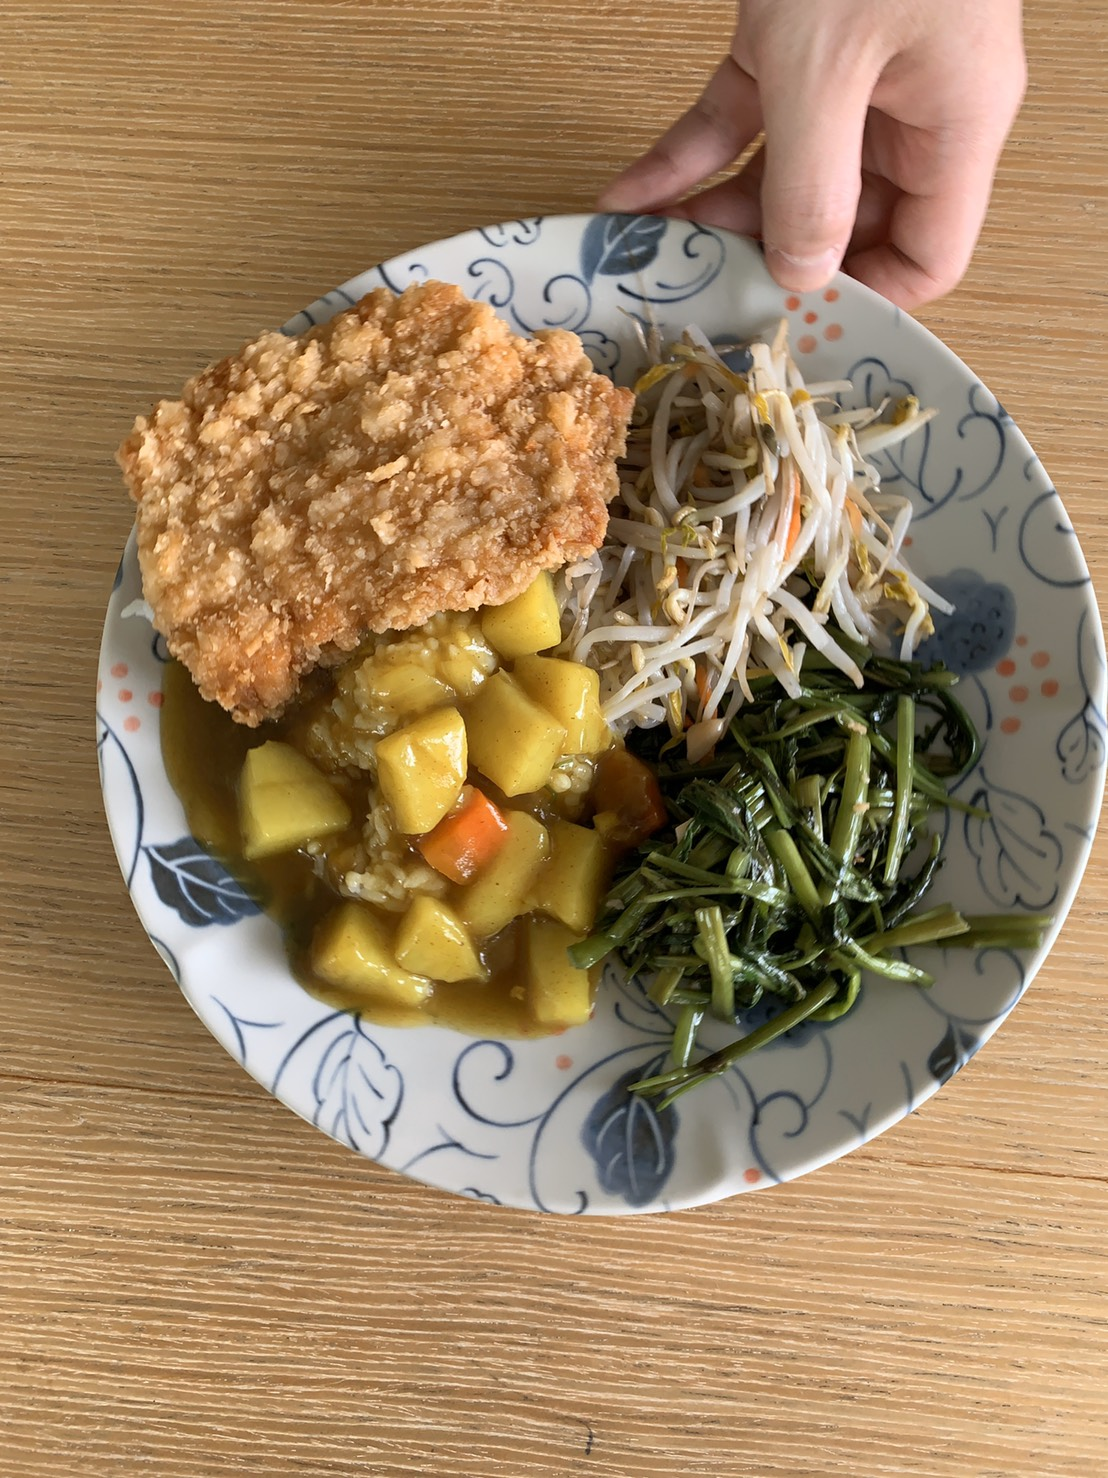curry: (180, 607, 640, 1022)
fried_chicken: (148, 321, 594, 621)
mung_bean_sprouts: (625, 344, 900, 669)
water_spinach: (635, 719, 949, 1028)
